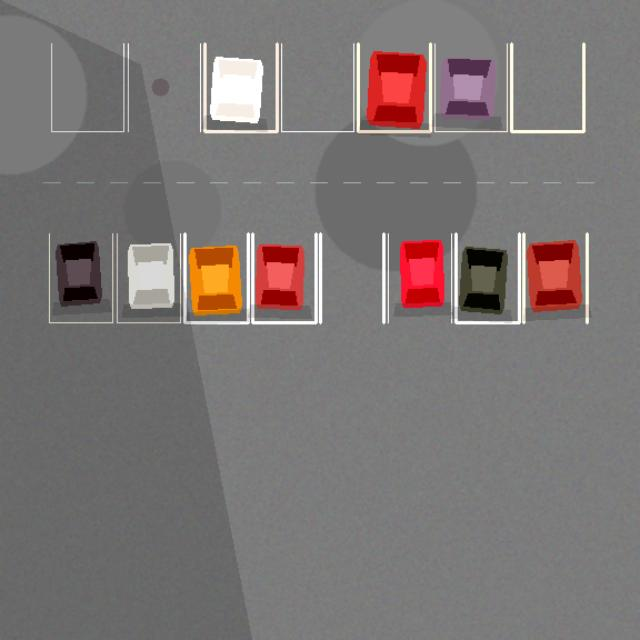space-empty: (51, 43, 123, 131), (128, 43, 200, 131), (281, 43, 353, 131), (511, 43, 583, 131), (320, 233, 383, 322)
space-occupied: (204, 43, 277, 131), (434, 43, 507, 131), (358, 43, 430, 131), (184, 233, 248, 322), (252, 233, 316, 322), (523, 233, 587, 322), (49, 233, 112, 322), (117, 233, 180, 322), (388, 233, 451, 322), (456, 233, 519, 322)
